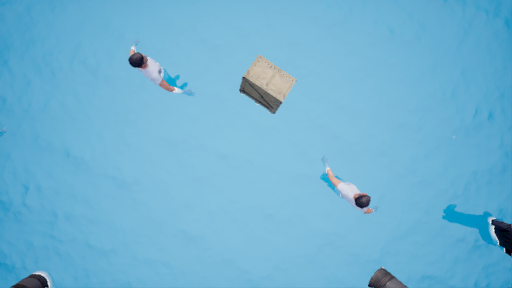person: (125, 40, 197, 102), (311, 165, 381, 216)
